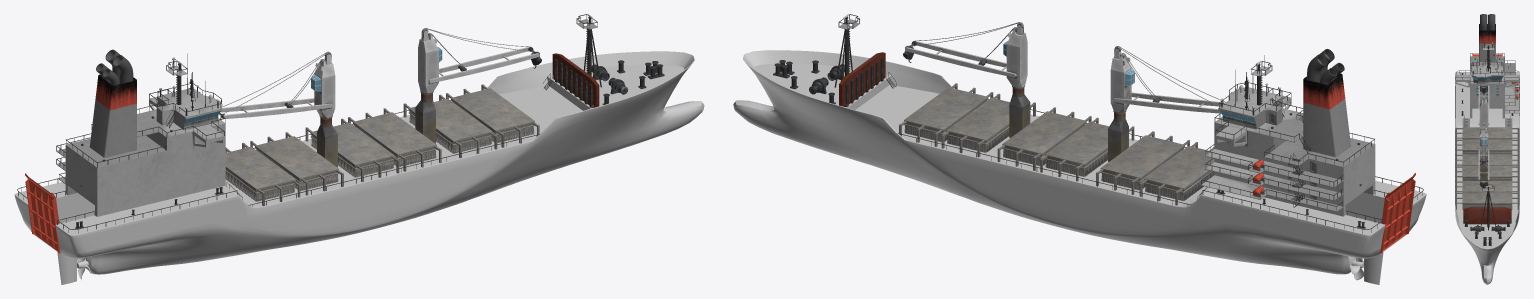
File: ship.fbx
The picture shows the model from 3 angles, left to right: view 1: azimuth 30°, elevation 25°; view 2: azimuth 150°, elevation 25°; view 3: azimuth 270°, elevation 25°; orthographic projection. The views are drawn at different scales.
Visible parts, largest first — view 1: Object_9, Object_7, Object_8, Object_3, Object_6, Object_5, Object_2, Object_4; view 2: Object_9, Object_7, Object_8, Object_3, Object_6, Object_5, Object_2, Object_4; view 3: Object_7, Object_9, Object_8, Object_3, Object_6, Object_2, Object_5, Object_4.
Boxes of the visible parts, <box> form: Object_9: <box>14,51,704,284</box>; Object_7: <box>66,88,534,201</box>; Object_8: <box>65,28,664,216</box>; Object_3: <box>17,14,597,253</box>; Object_6: <box>76,16,611,228</box>; Object_5: <box>75,14,601,228</box>; Object_2: <box>18,15,597,233</box>; Object_4: <box>28,19,597,251</box>; Object_9: <box>733,50,1426,284</box>; Object_7: <box>904,87,1374,200</box>; Object_8: <box>773,22,1375,216</box>; Object_3: <box>838,14,1423,253</box>; Object_6: <box>845,16,1364,227</box>; Object_5: <box>834,14,1365,228</box>; Object_2: <box>838,15,1422,233</box>; Object_4: <box>838,19,1412,251</box>; Object_7: <box>1462,56,1512,209</box>; Object_9: <box>1455,73,1519,284</box>; Object_8: <box>1455,80,1519,246</box>; Object_3: <box>1455,14,1519,204</box>; Object_6: <box>1456,40,1518,227</box>; Object_2: <box>1455,45,1519,190</box>; Object_5: <box>1455,44,1518,230</box>; Object_4: <box>1482,46,1494,191</box>.
Size of the model in its own units: 12707 by 3975 by 1926.
